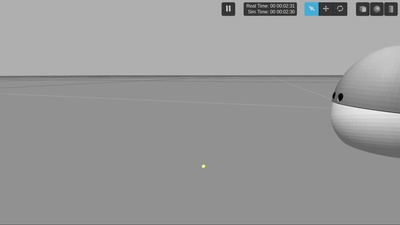mira_robot: (330, 45, 400, 159)
